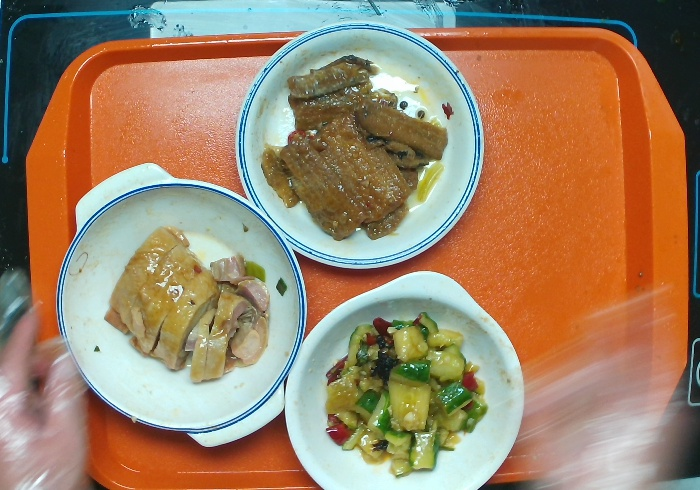HZYJPL-Dai_Er_Bai_Yuan_Wan: (269, 261, 534, 490)
HZYJPL-Lan_Bian_Dai_Er_Wan: (51, 154, 317, 455)
HZYJPL-Lan_Bian_Yuan_Die: (229, 14, 488, 274)
